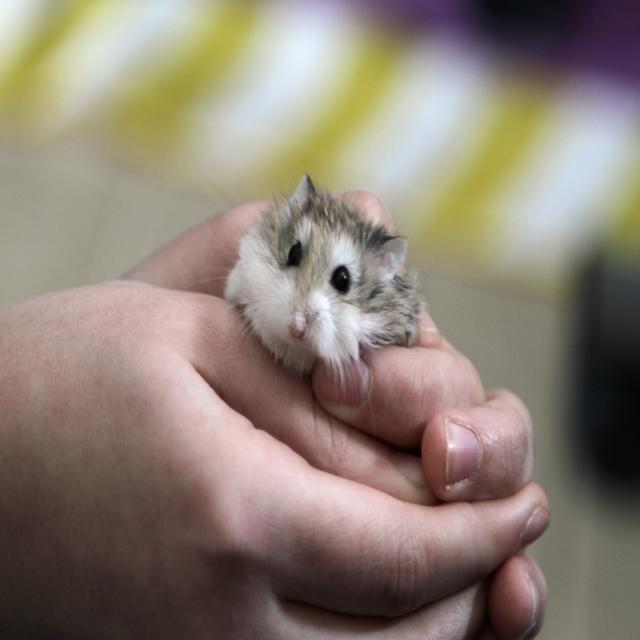rat: (192, 172, 422, 428)
